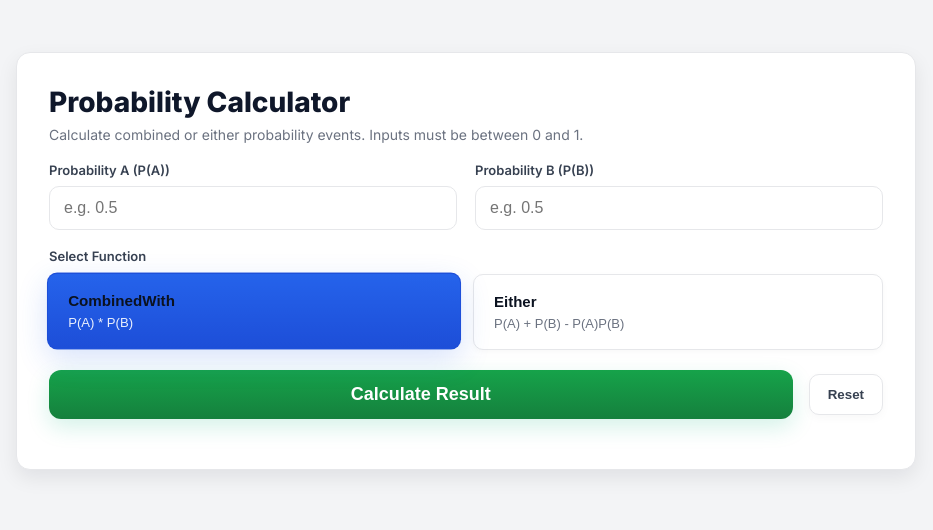
reset clears inputs and result
Type "0.2" into the number field with placeholder "e.g. 0.5" below "Probability A (P(A))".
click(253, 208); type("0.2")  # box x1=49 y1=186 x2=457 y2=230
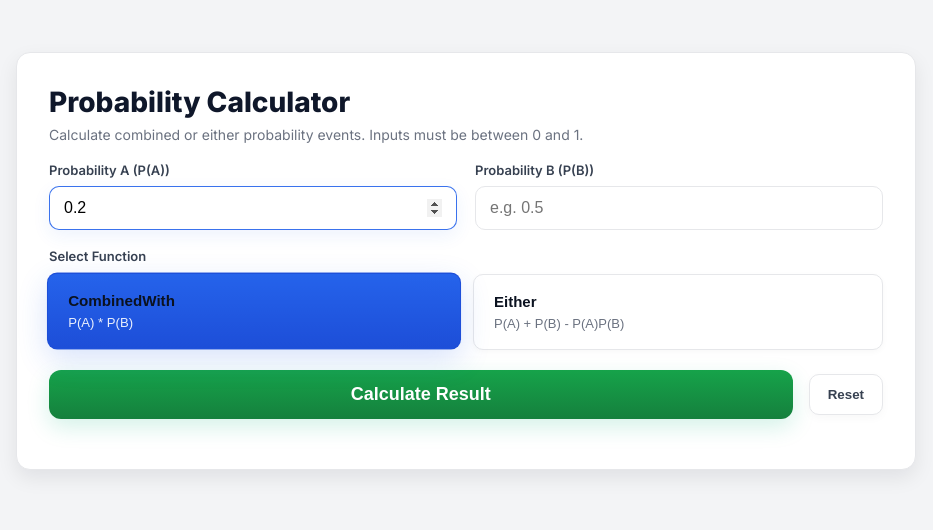
Type "0.3" into the number field with placeholder "e.g. 0.5".
click(679, 208); type("0.3")  # box x1=475 y1=186 x2=883 y2=230
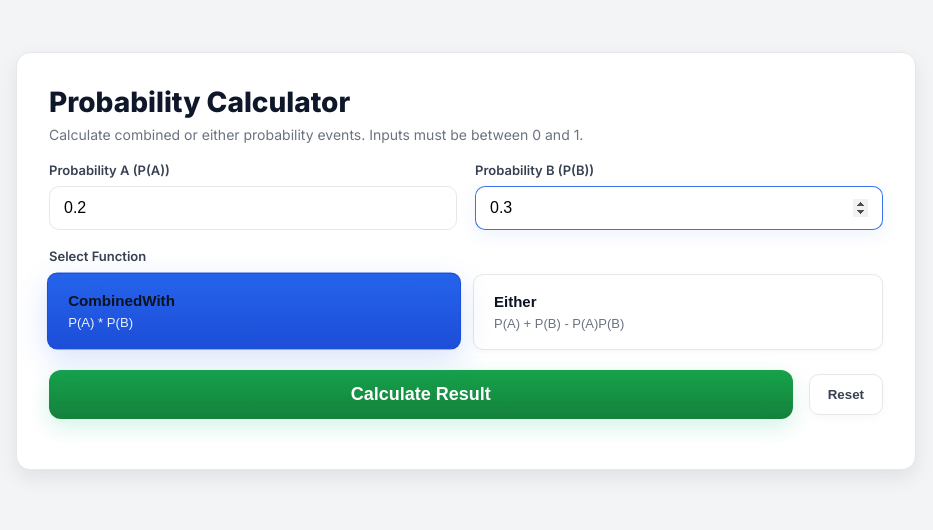
Click the button "Calculate Result".
click(421, 395)  # box x1=49 y1=370 x2=793 y2=419
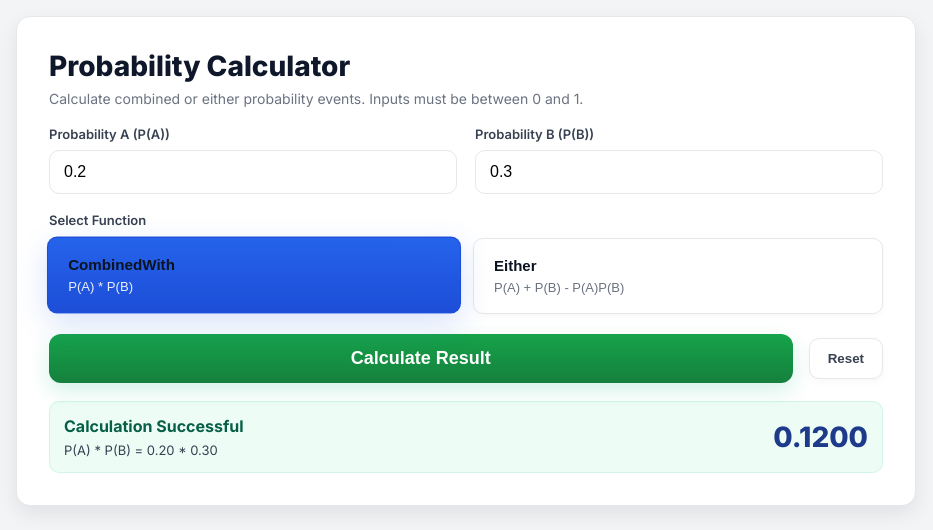
expect the text "0.1200" is shown: met, box x1=773 y1=420 x2=868 y2=454
Note: Click reset
Click the button "Reset".
click(846, 359)  # box x1=809 y1=338 x2=883 y2=379
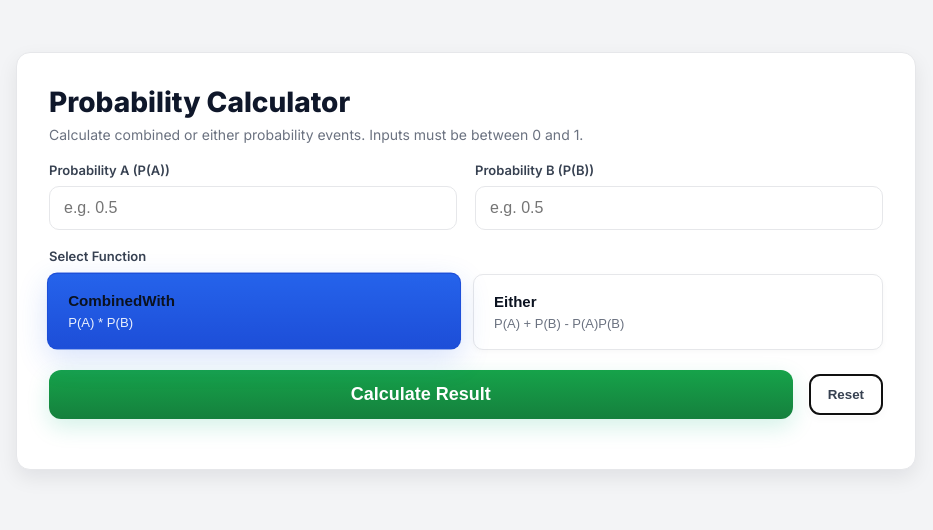
expect the number field with placeholder "e.g. 0.5" below "Probability A (P(A))" is empty: met, box x1=49 y1=186 x2=457 y2=230
expect the number field with placeholder "e.g. 0.5" below "Probability B (P(B))" is empty: met, box x1=475 y1=186 x2=883 y2=230
expect the text "0.1200" is gone: met
